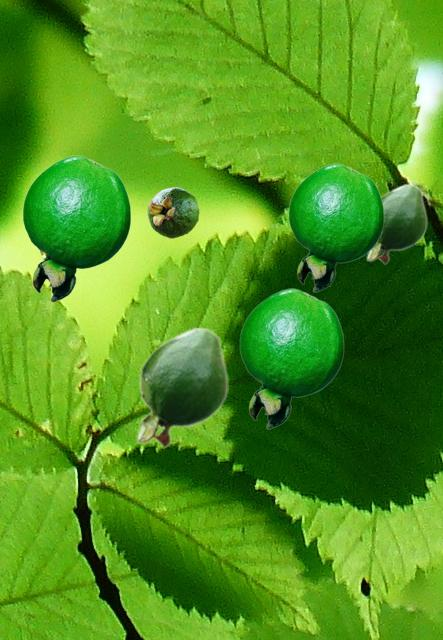guava: (22, 155, 130, 301), (239, 288, 343, 428), (288, 163, 383, 291), (136, 326, 227, 448), (366, 183, 426, 264), (147, 187, 198, 237)
